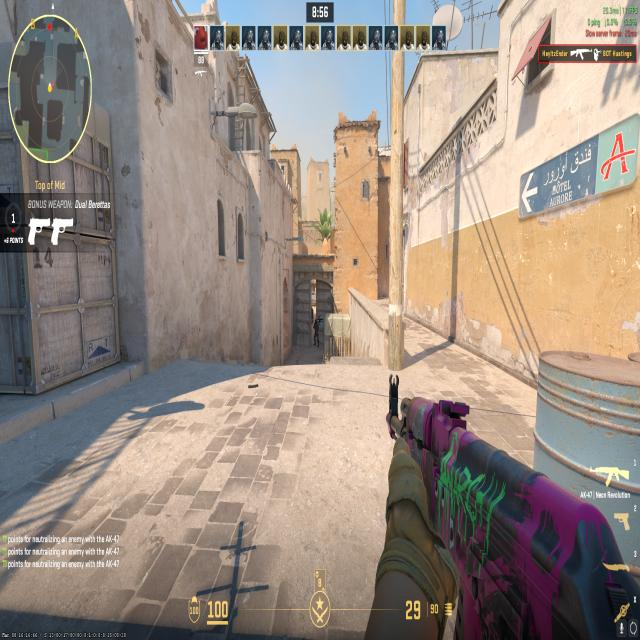ct: (314, 319, 320, 347), (310, 304, 314, 324)
